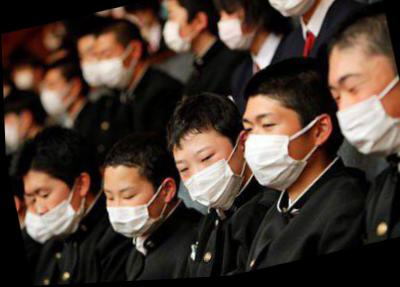OK: (321, 50, 400, 166), (235, 101, 309, 195), (170, 136, 241, 221), (99, 174, 159, 242), (212, 1, 253, 56), (92, 41, 133, 91), (158, 6, 197, 58), (75, 39, 113, 91), (36, 77, 70, 119), (263, 1, 325, 24), (4, 112, 26, 150)
WRONG: (27, 170, 78, 241)
